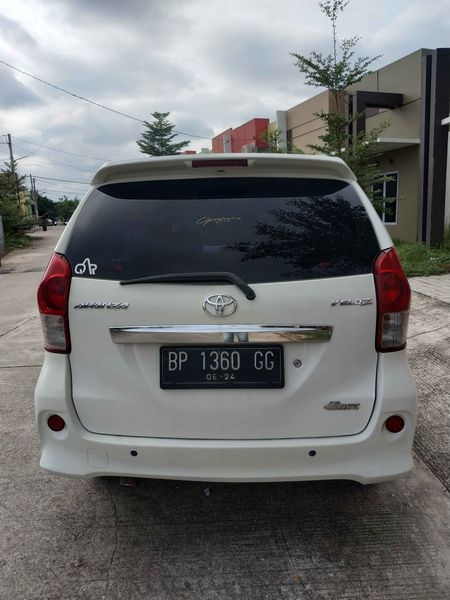plate: (161, 344, 286, 391)
